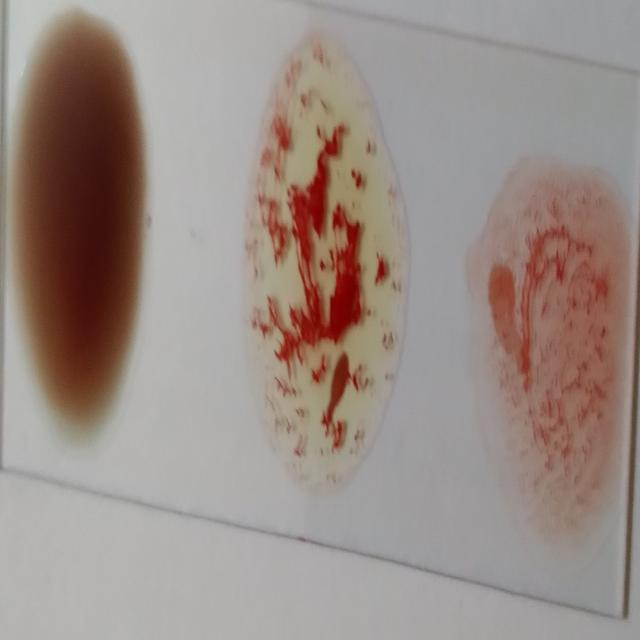B: (249, 39, 406, 487)
D: (483, 186, 631, 550)
